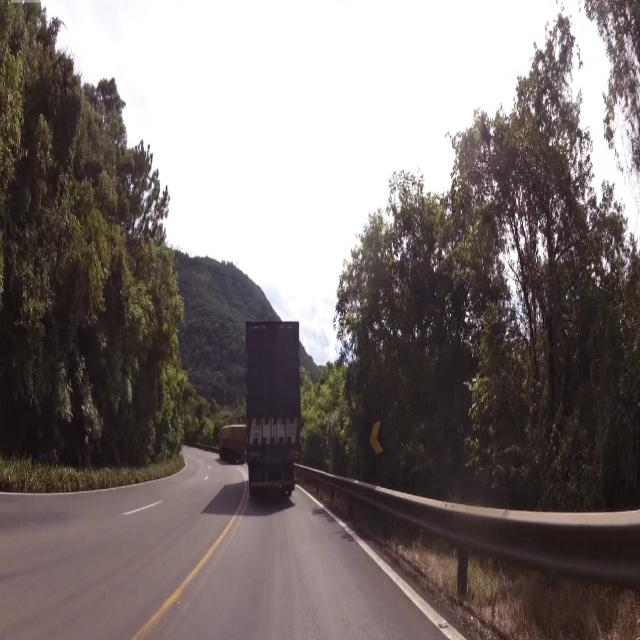Del: (368, 414, 387, 463)
